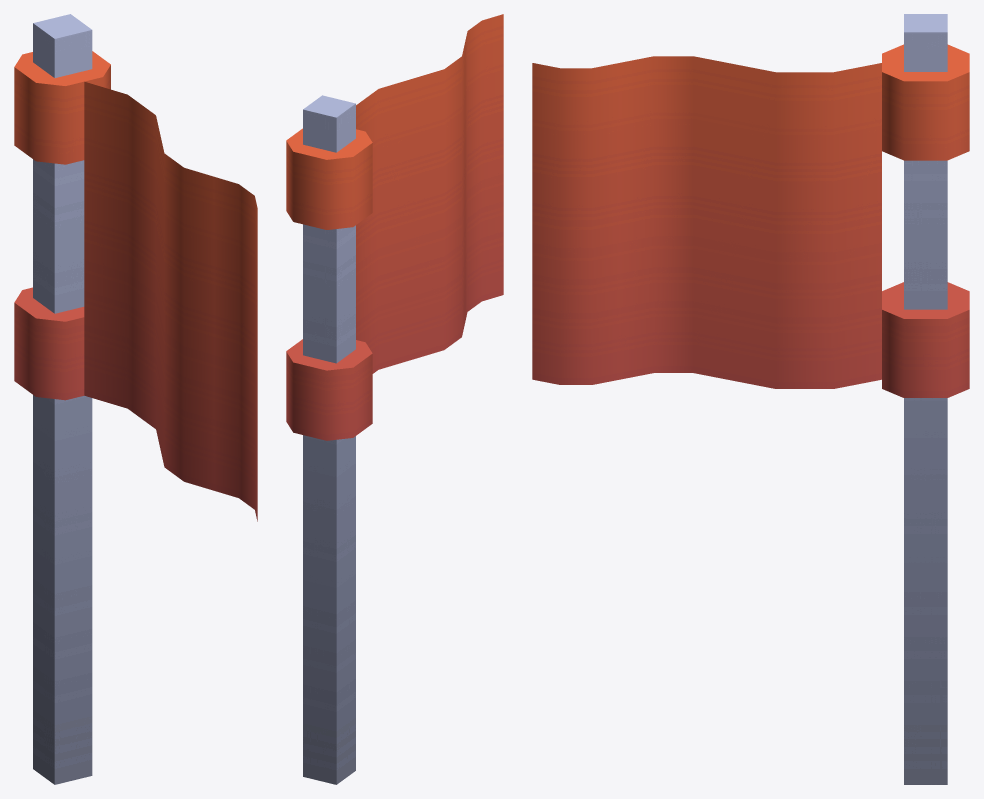
File: flag.glb
3 views of the same model, side by side, from view 1: azimuth 30°, elevation 25°; view 2: azimuth 150°, elevation 25°; view 3: azimuth 270°, elevation 25° (orthographic). The views are drawn at different scales.
Parts seen in each view (by area): view 1: flag; view 2: flag; view 3: flag.
Part boxes in pixels (left/top/right/bottom): flag: left=14, top=14, right=257, bottom=784; flag: left=286, top=14, right=503, bottom=784; flag: left=532, top=14, right=969, bottom=784.
Bounding box in the file's own units: 0.1 × 0.95 × 0.5.
Materials: 1 (1 with a texture image).
